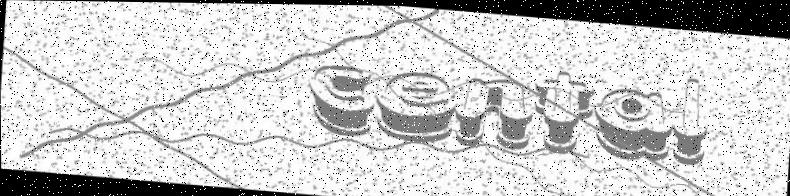a: (589, 84, 675, 161)
c: (305, 61, 378, 137)
e: (372, 67, 457, 143)
l: (670, 72, 710, 165)
n: (450, 75, 536, 150)
t: (529, 67, 596, 155)
